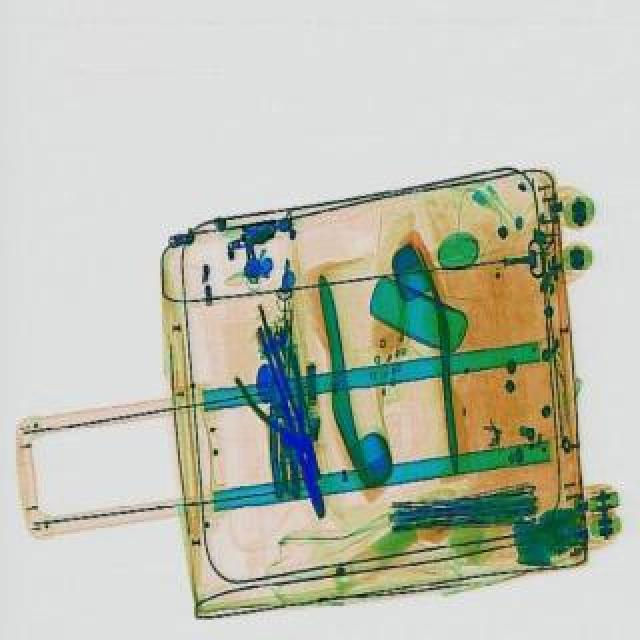wrench: (232, 348, 354, 492)
